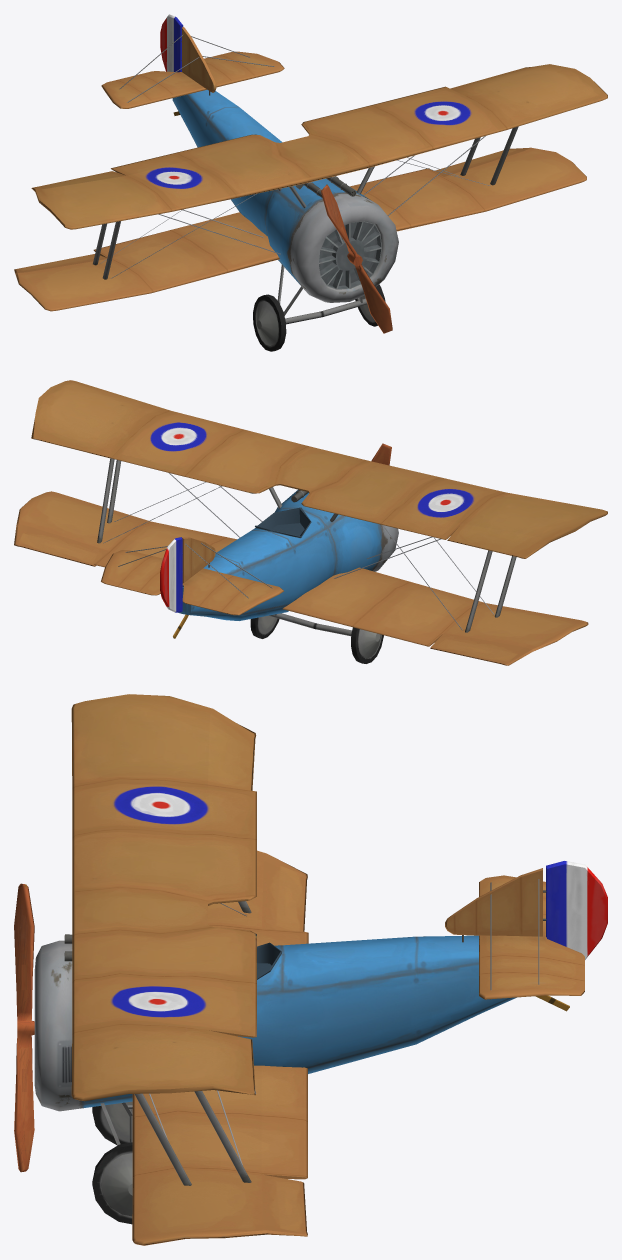
Rendered from stylized_ww1_plane.glb.
The picture shows the model from 3 angles, top to bottom: view 1: azimuth 30°, elevation 25°; view 2: azimuth 150°, elevation 25°; view 3: azimuth 270°, elevation 25°; orthographic projection. The views are drawn at different scales.
Parts seen in each view (by area): view 1: Plane_geo; view 2: Plane_geo; view 3: Plane_geo.
Boxes of the visible parts, <box> form: Plane_geo: <box>14,14,607,351</box>; Plane_geo: <box>14,380,607,665</box>; Plane_geo: <box>14,694,607,1245</box>.
Size of the model in its own units: 13.98 by 5.31 by 8.81.
Materials: 1 (1 with a texture image).
